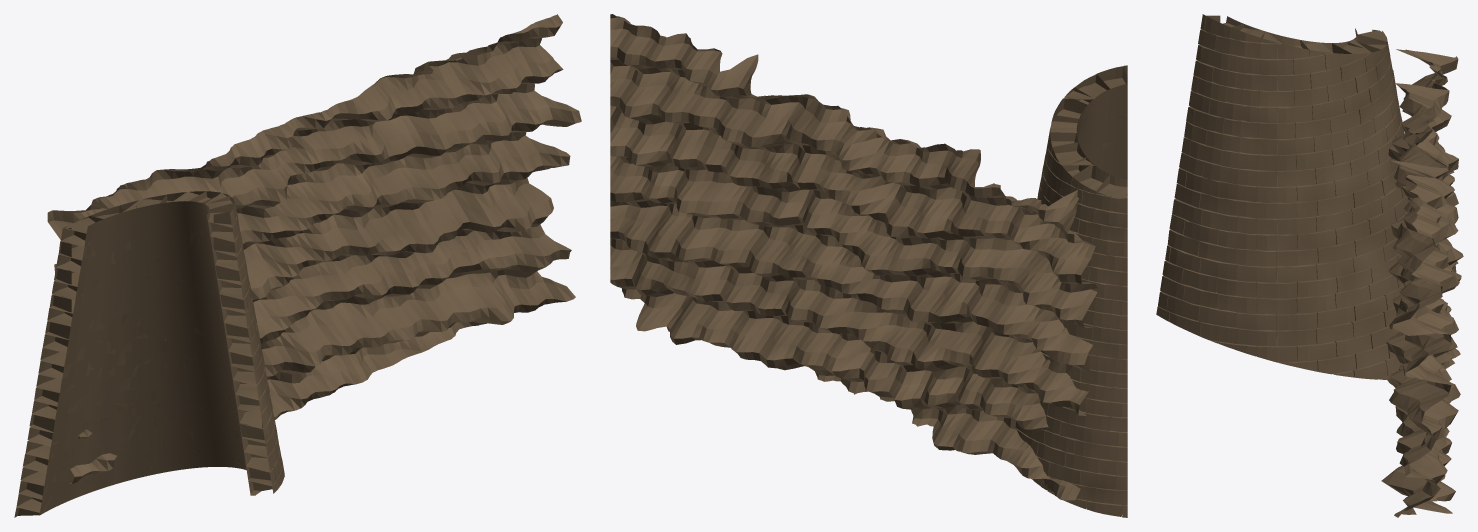
Rendered from temple02.glb.
3 renders of one model, left to right at view 1: azimuth 30°, elevation 25°; view 2: azimuth 150°, elevation 25°; view 3: azimuth 270°, elevation 25°, orthographic. The views are drawn at different scales.
Visible parts, largest first — view 1: TEMPLE02_original_v5; view 2: TEMPLE02_original_v5; view 3: TEMPLE02_original_v5.
Part boxes in pixels (x1=…): TEMPLE02_original_v5: x1=14, y1=14, x2=581, y2=517; TEMPLE02_original_v5: x1=610, y1=14, x2=1127, y2=517; TEMPLE02_original_v5: x1=1156, y1=14, x2=1463, y2=517.
Size of the model in its own units: 5.65 by 3.73 by 2.56.
